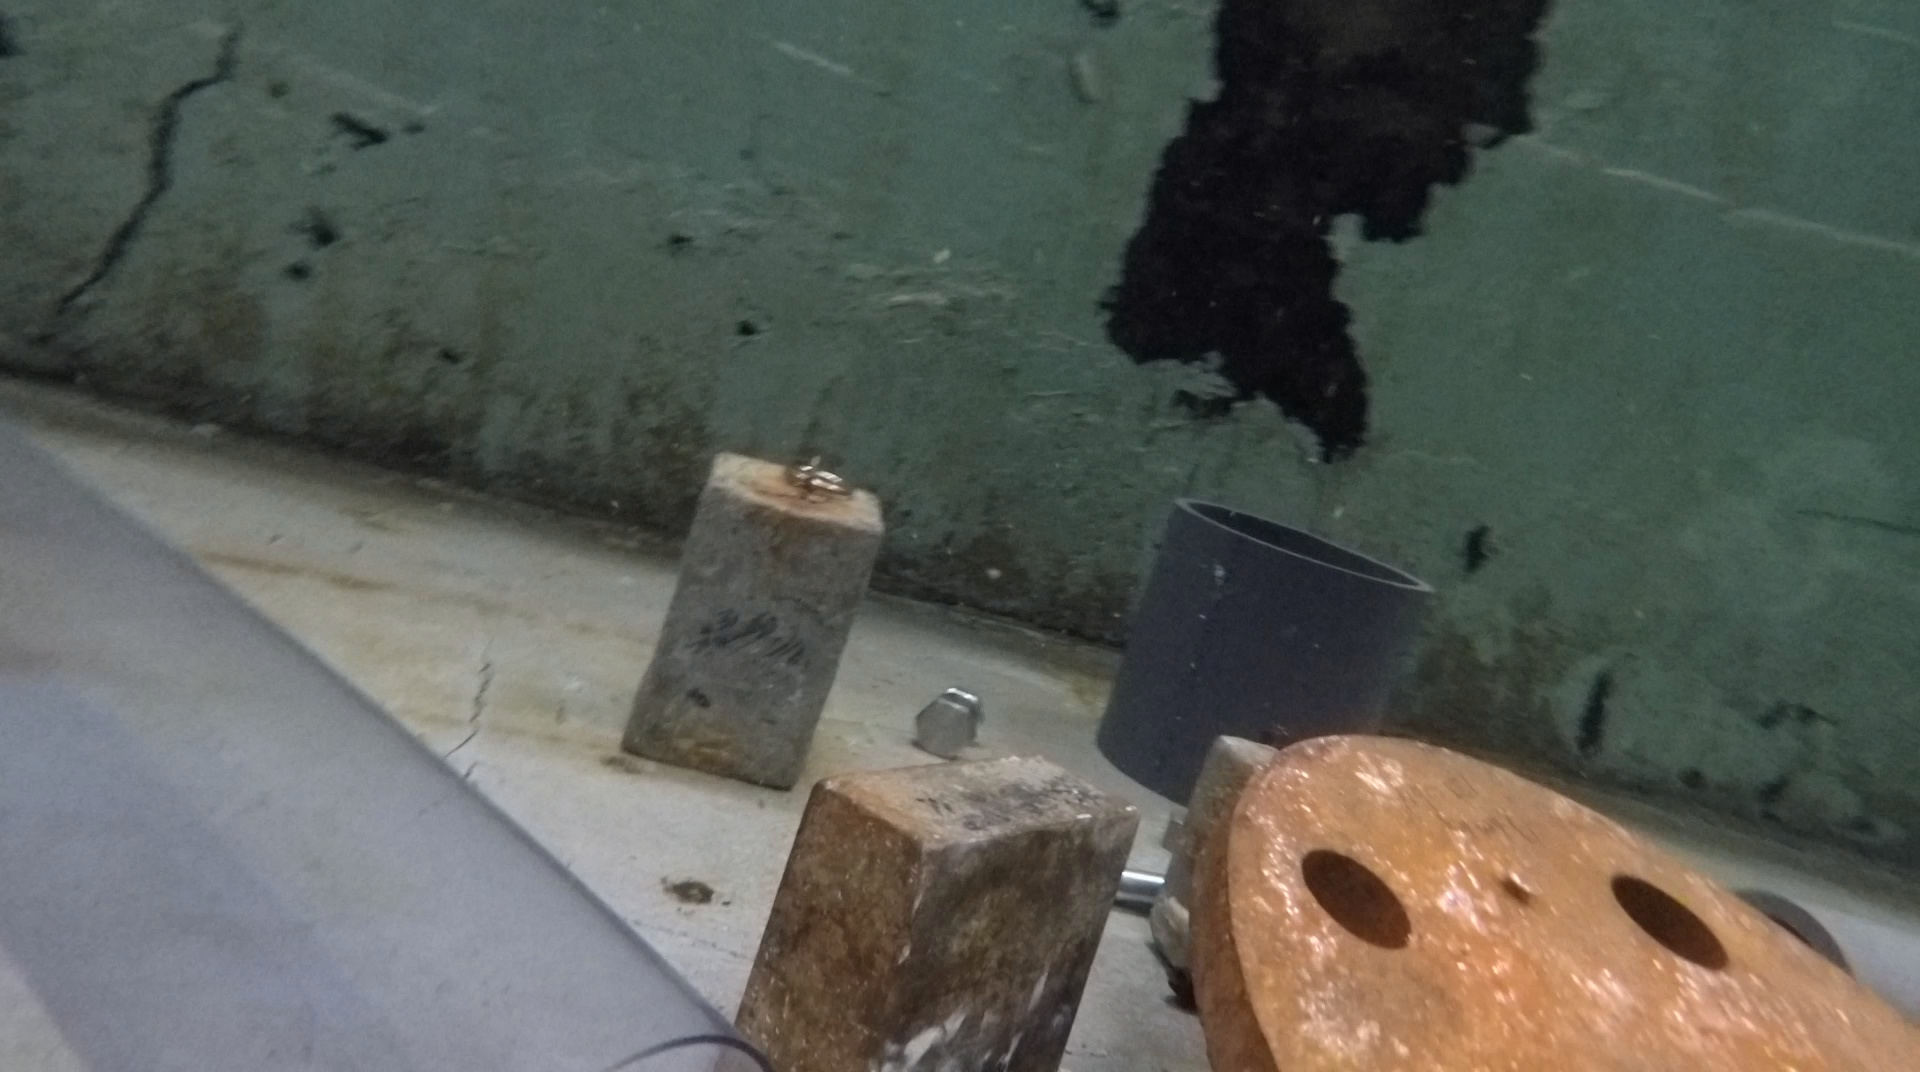bolt: (916, 686, 981, 758)
flange: (1189, 732, 1920, 1069)
led_block: (709, 753, 1145, 1072), (625, 447, 889, 792), (1151, 732, 1275, 984)
pipe: (1, 423, 775, 1072), (1098, 494, 1436, 818), (1727, 886, 1920, 1003)
